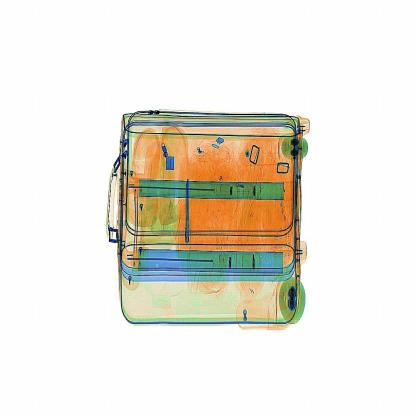pliers: (180, 167, 202, 254)
